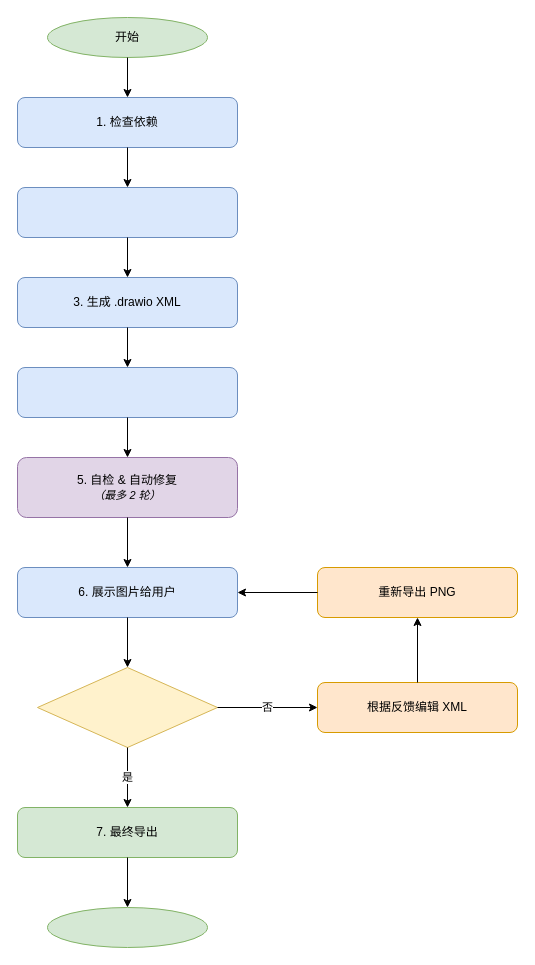
Some shapes in this 535 by 965 pixel diagram are drawn without their labels. Each missing label, with the centre of its shape:
"2. 规划图表" belongs at pixel 127 212.
"4. 导出草稿 PNG" belongs at pixel 127 392.
"完成" belongs at pixel 127 927.
"满意？" belongs at pixel 127 707.
